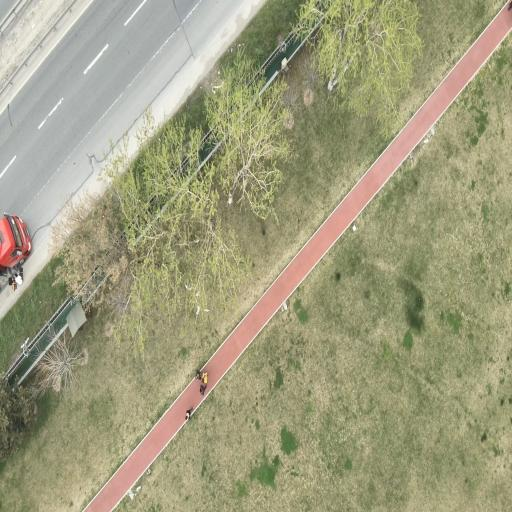person: (185, 407, 194, 420), (15, 274, 23, 285), (200, 384, 206, 395), (196, 370, 202, 380), (202, 373, 207, 384), (508, 1, 511, 10)
truck: (0, 214, 31, 290)
